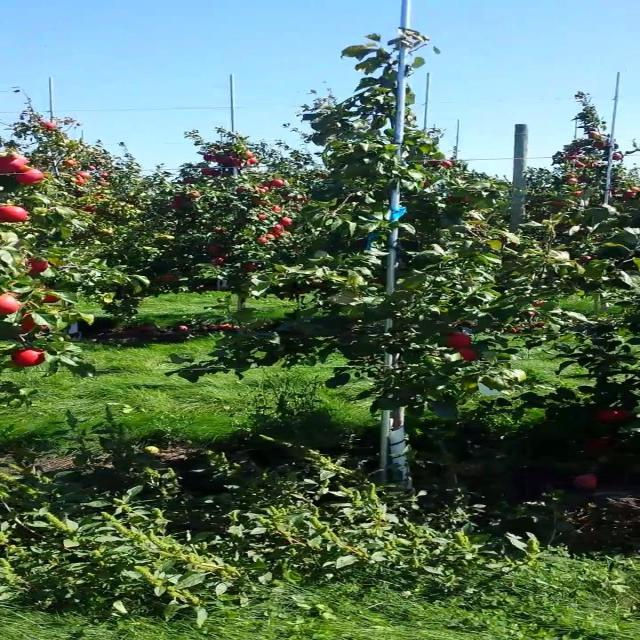apple: (13, 352, 48, 368), (20, 316, 50, 333), (596, 408, 631, 422), (6, 156, 28, 175), (447, 332, 473, 348), (20, 168, 44, 185), (20, 316, 41, 333), (6, 208, 28, 224), (28, 260, 50, 275), (6, 296, 21, 315), (461, 348, 476, 360), (42, 296, 60, 304)
